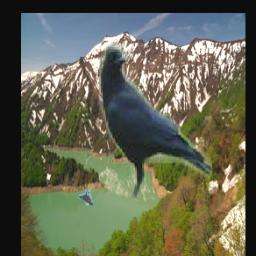Crow: (100, 43, 213, 199), (79, 189, 94, 205)
